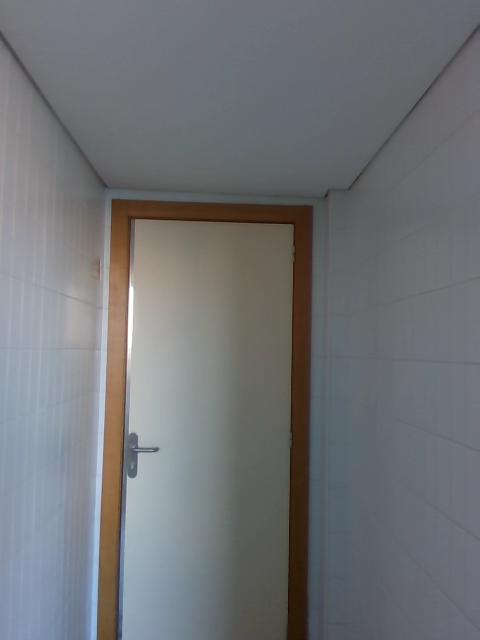door: (119, 219, 295, 640)
